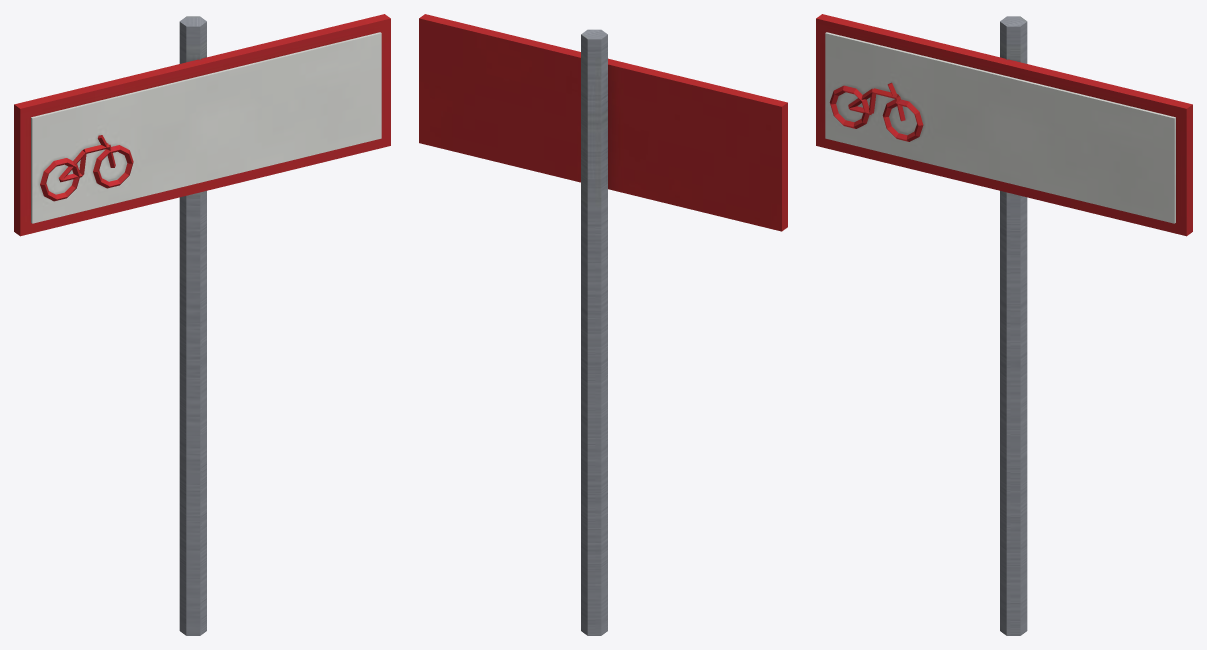
The model's file is skylt_cykel_tex.glb.
3 views of the same model, side by side, from view 1: azimuth 30°, elevation 25°; view 2: azimuth 150°, elevation 25°; view 3: azimuth 330°, elevation 25° (orthographic). The views are drawn at different scales.
Visible parts, largest first — view 1: skylt_cykel; view 2: skylt_cykel; view 3: skylt_cykel.
Boxes of the visible parts, x1,y1,x2,y2 form: skylt_cykel: [14, 14, 390, 635]; skylt_cykel: [419, 14, 787, 635]; skylt_cykel: [816, 14, 1192, 635].
Bounding box in the file's own units: 1.4 × 2.2 × 0.157.
Materials: 3 (3 with a texture image).
